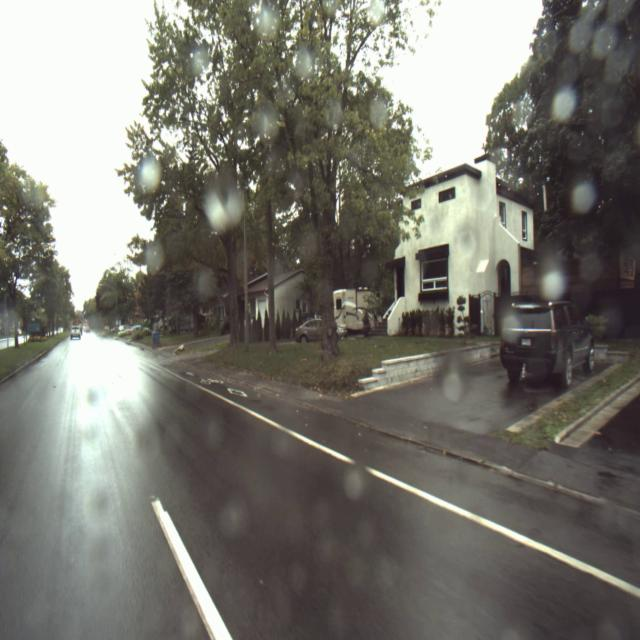car: (500, 298, 598, 384), (295, 320, 324, 344), (70, 324, 82, 339)
